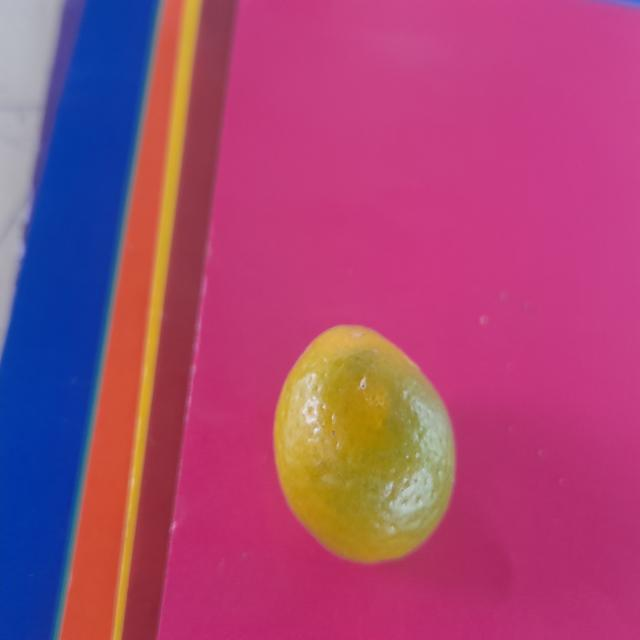greening: (276, 312, 457, 573)
